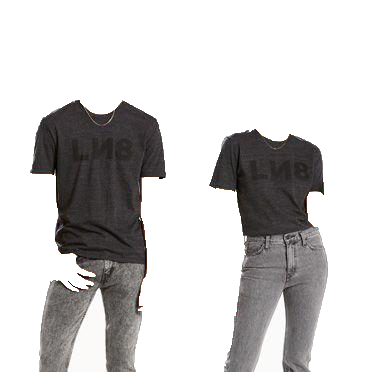teeshirt: (30, 98, 168, 265), (207, 123, 337, 238)
